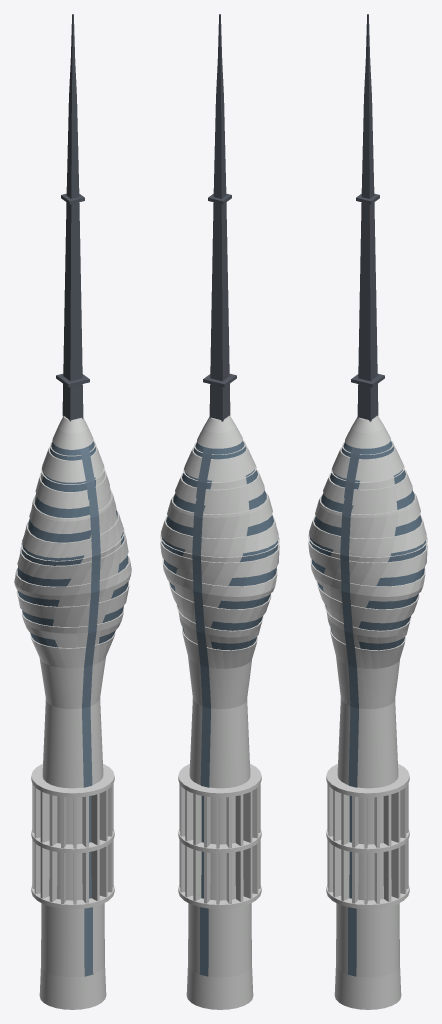
Rendered from istanbul-camlica-tower.glb.
The picture shows the model from 3 angles, left to right: view 1: azimuth 30°, elevation 25°; view 2: azimuth 150°, elevation 25°; view 3: azimuth 330°, elevation 25°; orthographic projection.
Visible parts, largest first — view 1: Çamlıca Tower; view 2: Çamlıca Tower; view 3: Çamlıca Tower.
Part boxes in pixels (x1=…): Çamlıca Tower: x1=14, y1=14, x2=131, y2=1009; Çamlıca Tower: x1=160, y1=14, x2=279, y2=1009; Çamlıca Tower: x1=308, y1=14, x2=427, y2=1009.
Size of the model in its own units: 41.84 by 369 by 32.11.
